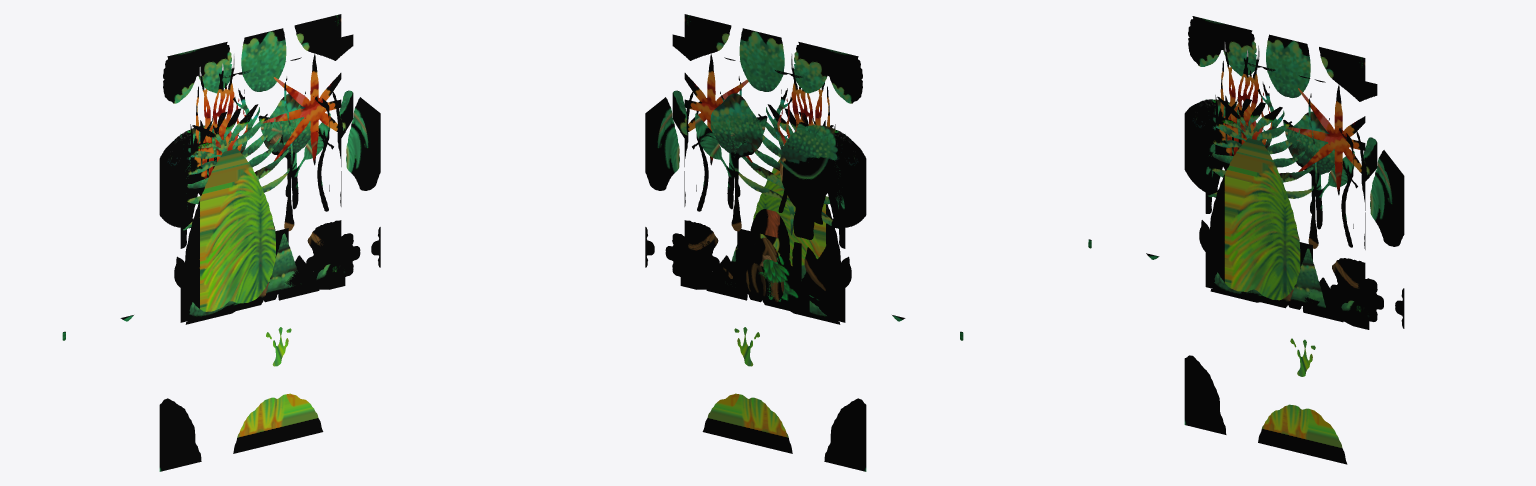
File: Tree_Planes.fbx
The picture shows the model from 3 angles, left to right: view 1: azimuth 30°, elevation 25°; view 2: azimuth 150°, elevation 25°; view 3: azimuth 330°, elevation 25°; orthographic projection.
Visible parts, largest first — view 1: PalmLeaf, Tree05, Tree04, Tree08, Tree06, Tree07; view 2: Tree05, Tree04, PalmLeaf, Tree06, Tree08, Tree07, Tree02, Tree03; view 3: PalmLeaf, Tree05, Tree08, Tree04, Tree06, Tree07.
Boxes of the visible parts, <box> form: PalmLeaf: <box>159,148,323,471</box>; Tree05: <box>159,14,353,299</box>; Tree04: <box>180,57,380,322</box>; Tree08: <box>179,96,345,324</box>; Tree06: <box>190,53,341,305</box>; Tree07: <box>200,76,345,310</box>; Tree05: <box>672,14,866,316</box>; Tree04: <box>645,57,845,322</box>; PalmLeaf: <box>702,158,866,471</box>; Tree06: <box>684,53,835,303</box>; Tree08: <box>680,101,840,324</box>; Tree07: <box>680,76,825,315</box>; Tree02: <box>758,256,801,307</box>; Tree03: <box>737,229,801,267</box>; PalmLeaf: <box>1184,138,1347,464</box>; Tree05: <box>1184,16,1377,306</box>; Tree08: <box>1204,96,1369,329</box>; Tree04: <box>1205,53,1404,328</box>; Tree06: <box>1215,42,1365,274</box>; Tree07: <box>1225,81,1369,322</box>.
Bounding box in the file's own units: 787 × 0.000146 × 642.
